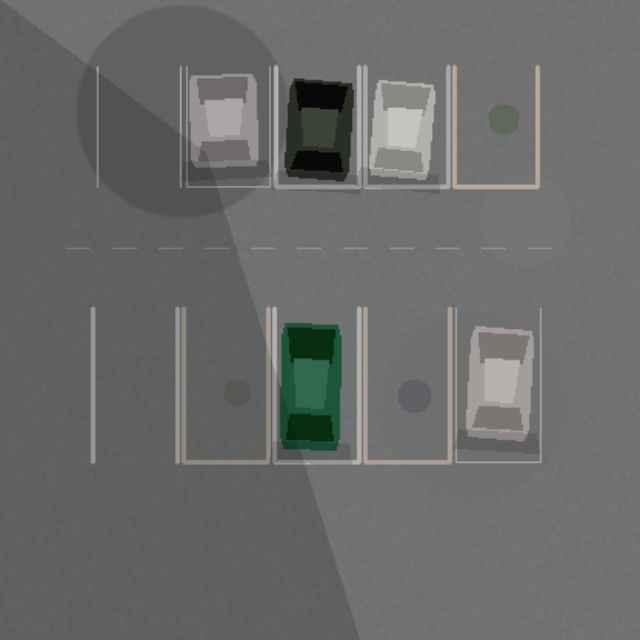space-empty: (92, 308, 177, 462), (183, 308, 268, 462), (365, 308, 449, 462), (97, 66, 180, 186), (454, 66, 537, 186)
space-occupied: (455, 308, 540, 462), (274, 308, 358, 462), (186, 66, 269, 186), (275, 66, 358, 186), (365, 66, 448, 186)
